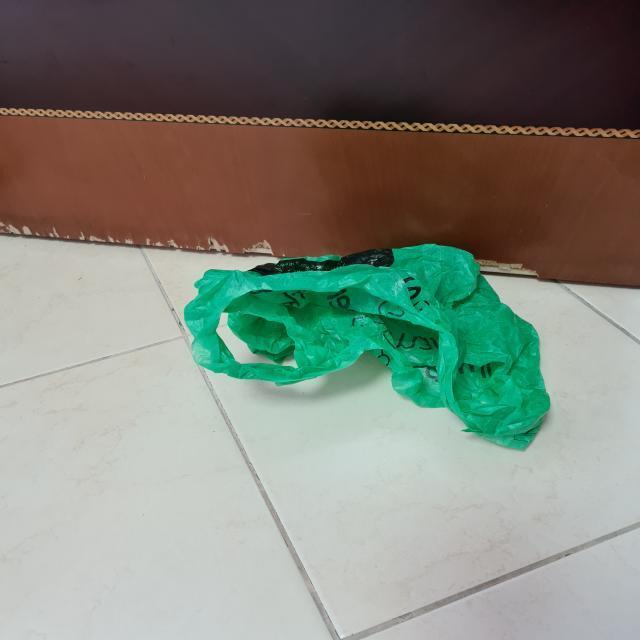Plastic_Bag: (185, 242, 552, 449)
